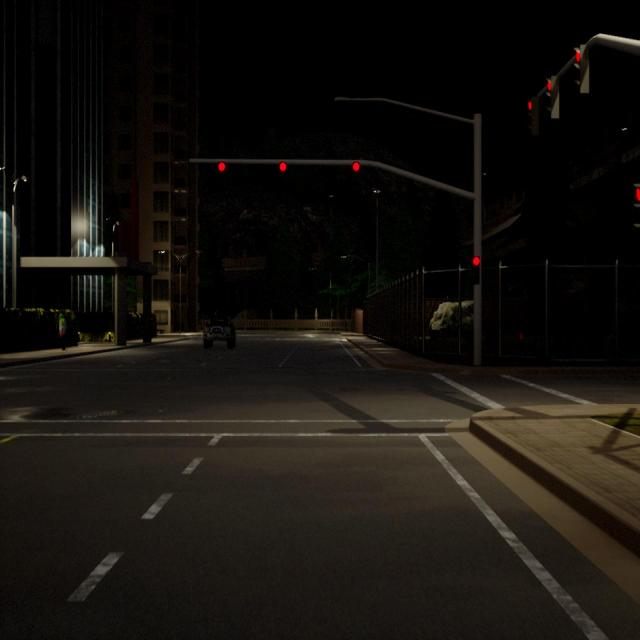Pedestrian: (58, 309, 68, 351)
Vehicle: (203, 318, 236, 345)
traffic_light: (574, 44, 589, 93), (546, 76, 559, 118), (633, 184, 640, 227), (472, 256, 480, 283), (526, 101, 534, 126), (218, 161, 226, 171), (352, 162, 360, 172), (280, 161, 286, 172)
